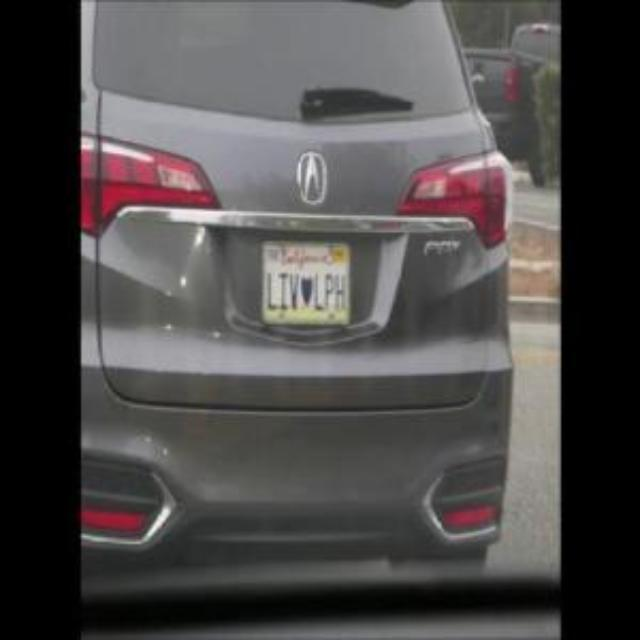License Plate: (264, 233, 352, 331)
